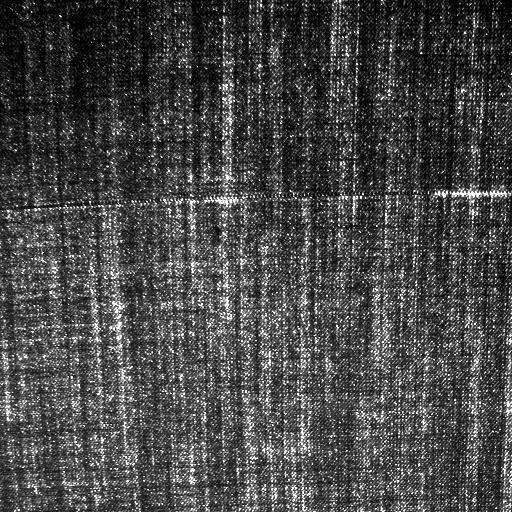fabric_broken_pick: (54, 188, 504, 210)
